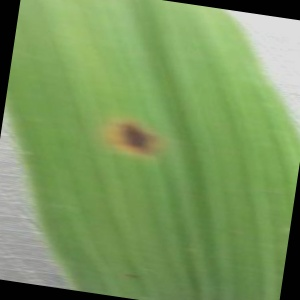Bacterial_Leaf_Blight: (105, 112, 168, 163), (119, 268, 146, 287)
